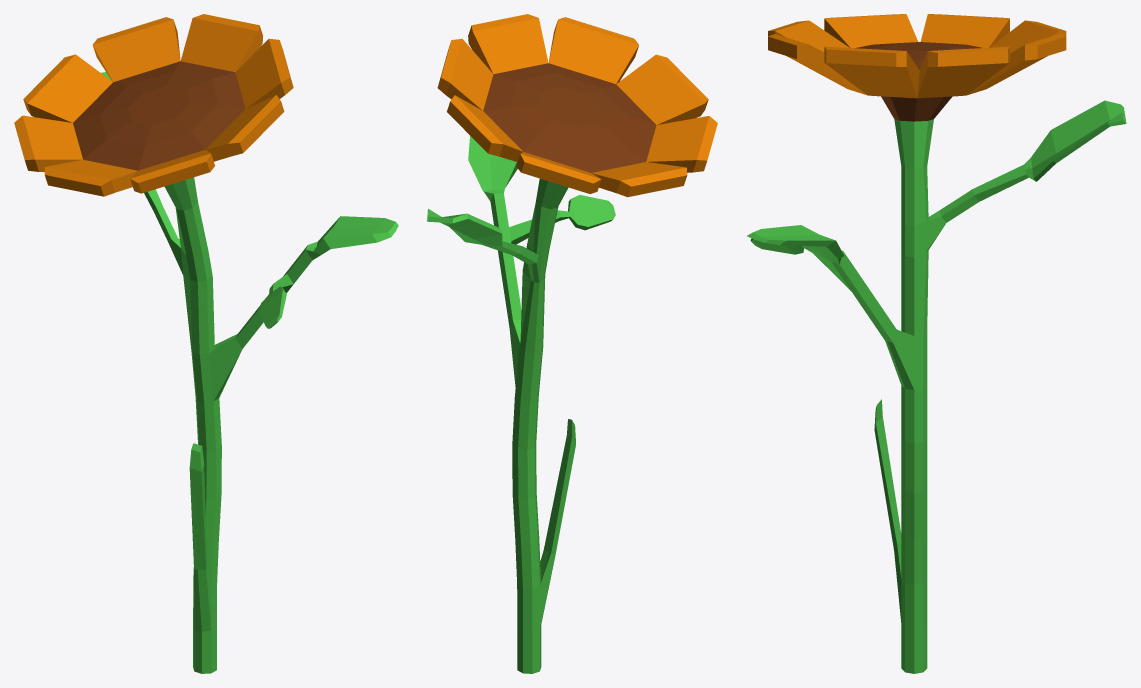
File: sunflower.glb
The picture shows the model from 3 angles, left to right: view 1: azimuth 30°, elevation 25°; view 2: azimuth 150°, elevation 25°; view 3: azimuth 270°, elevation 25°; orthographic projection. The views are drawn at different scales.
Visible parts, largest first — view 1: flower2; view 2: flower2; view 3: flower2.
Part boxes in pixels (x1,y1,x2,y2): flower2: (14, 14, 398, 673); flower2: (427, 14, 717, 673); flower2: (747, 14, 1126, 673).
Bounding box in the file's own units: 0.4526 × 0.9194 × 0.4879.
